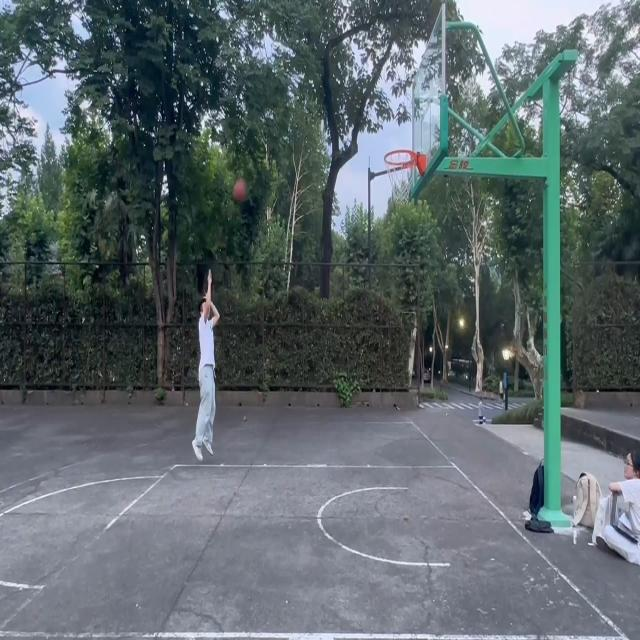basketball: (386, 153, 431, 205)
rim: (234, 178, 248, 201)
